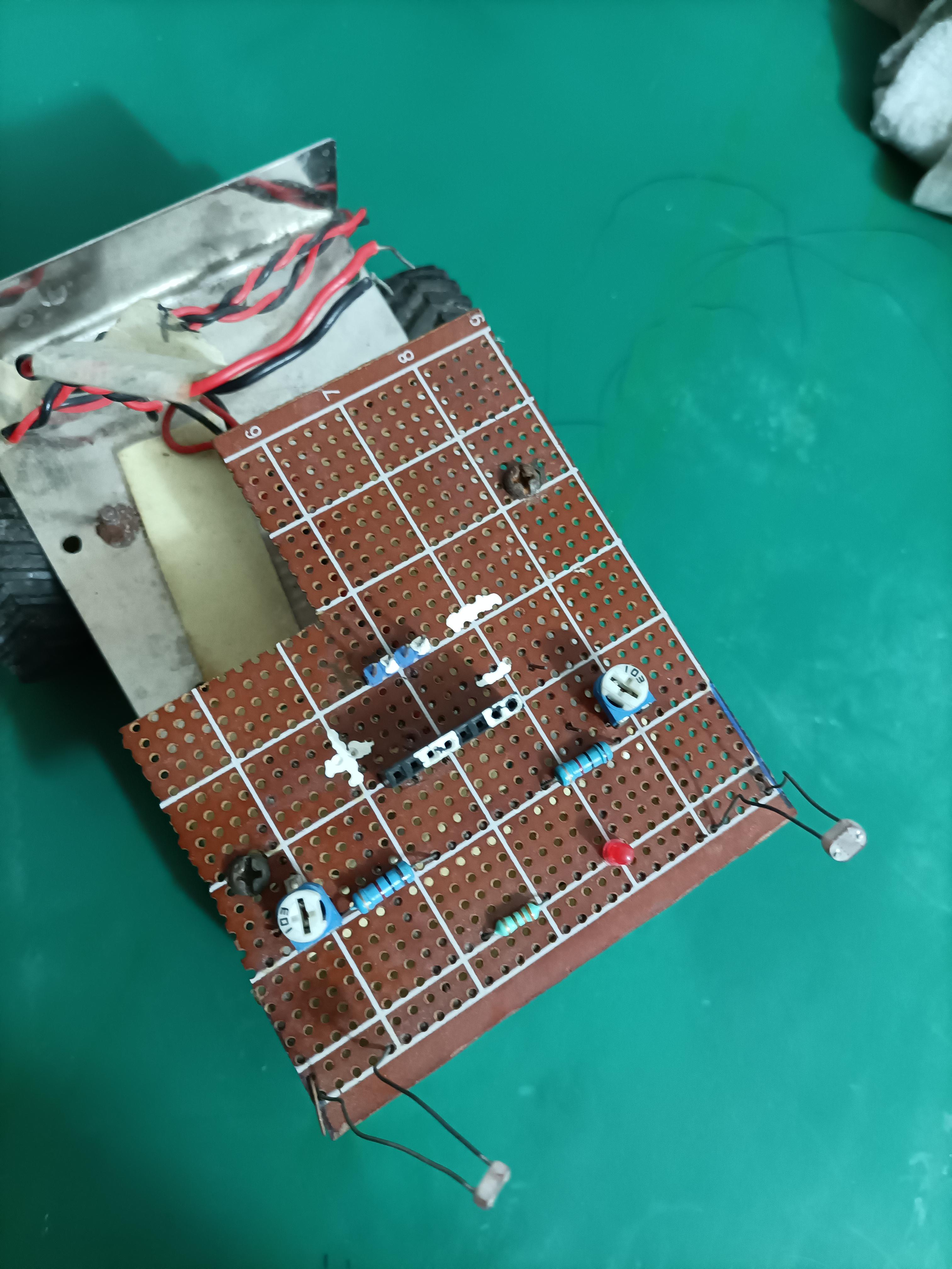LED: (603, 838, 638, 868)
Resistencia: (340, 899, 425, 930), (479, 925, 552, 952), (544, 771, 617, 796)
